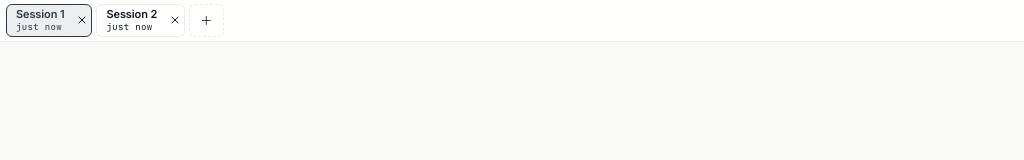
Test case: SessionStrip (I24) › deleting the active s_1 (two-click) DELETEs it and falls back to the remaining session
The image size is (1024, 160).
Expected: the tab "Session 1 just now" is shown, [7,5,74,36]
// Two-click confirm on s_1's × — first click arms, second click commits.
Click the button named "Delete Session 1". click: [82, 20]
box: [74,12,92,30]
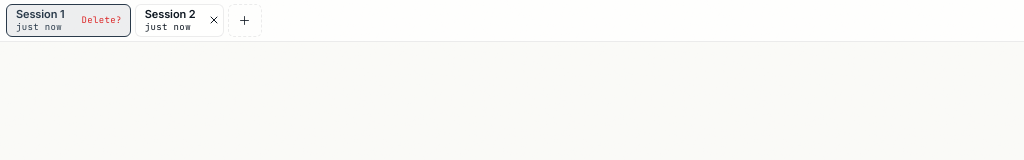
Click the button "Delete?". click: [102, 20]
box: [74,16,130,25]
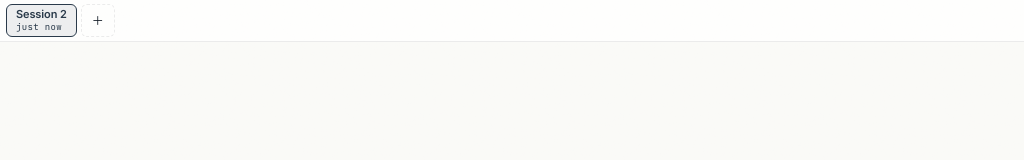
Expected: the tab "Session 1" is gone
